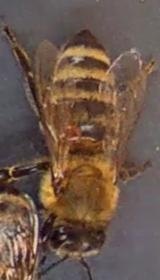varroa_mite: (50, 112, 85, 145)
